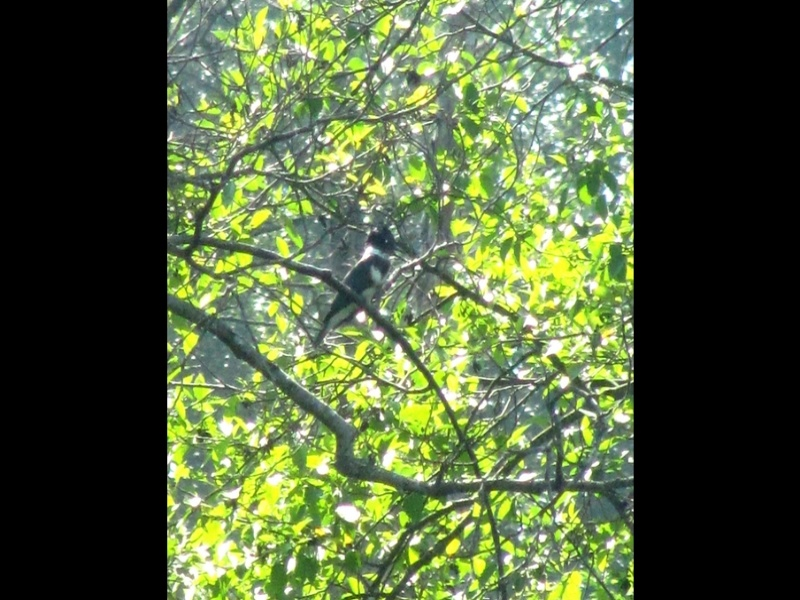kingfisher: (312, 218, 412, 350)
